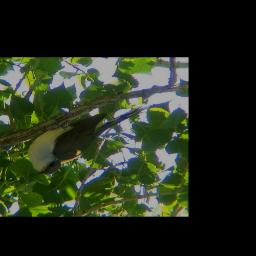Cuckoo: (27, 106, 151, 175)
